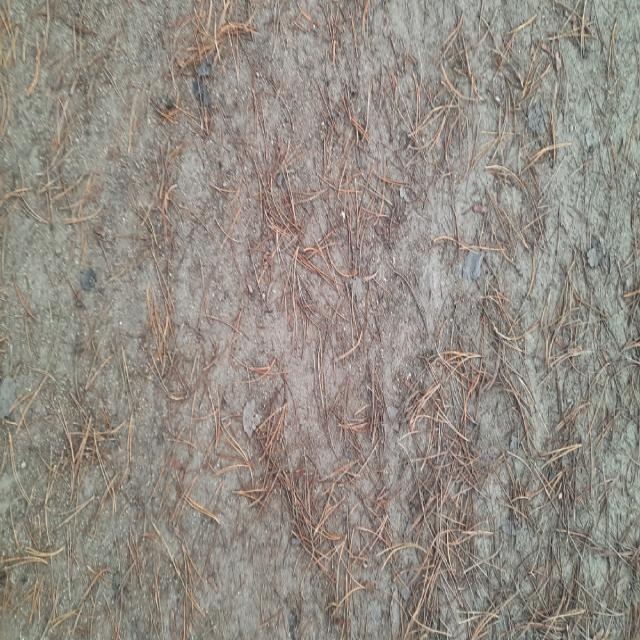white-sand: (0, 0, 639, 639)
